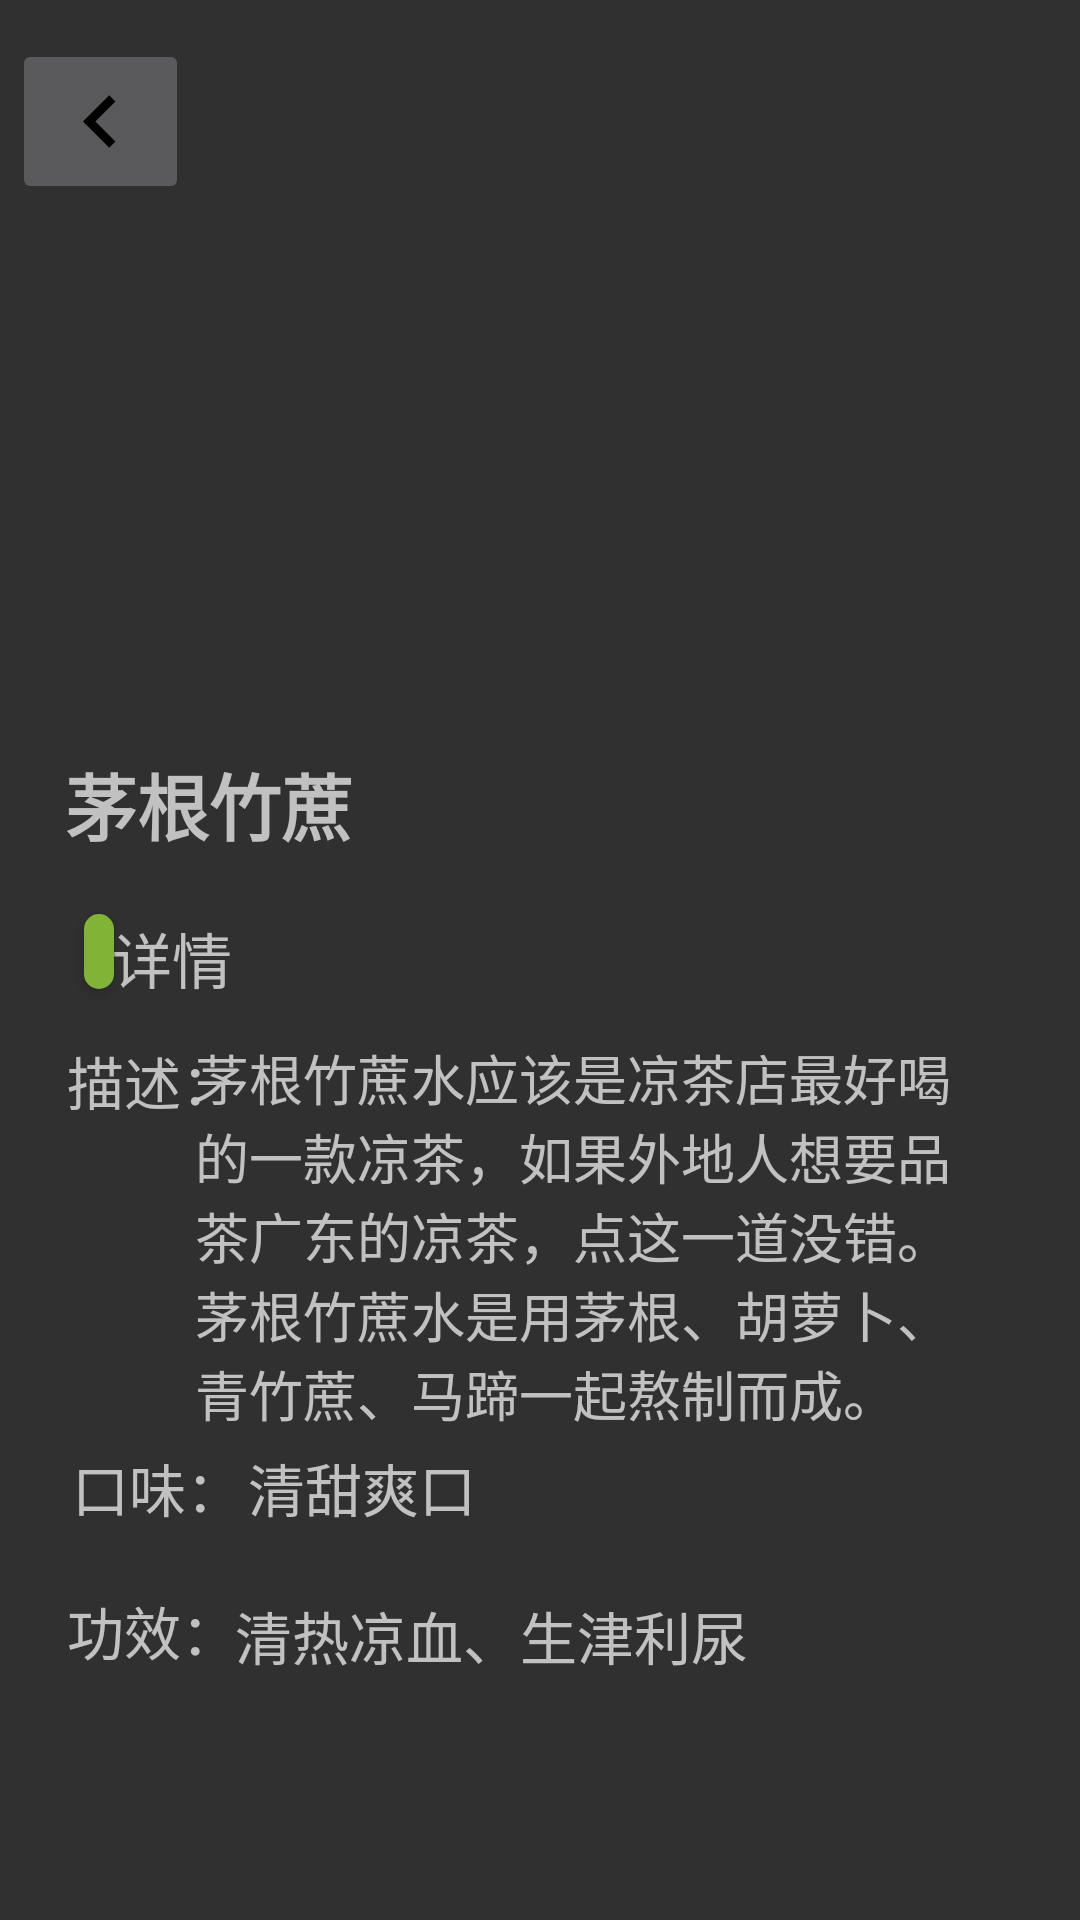

Where icons sit on this 1080px×1920px app screen, as (left=x1, top=y1, right=x2, bottom=y2):
returnbutton: (left=24, top=57, right=177, bottom=186)
